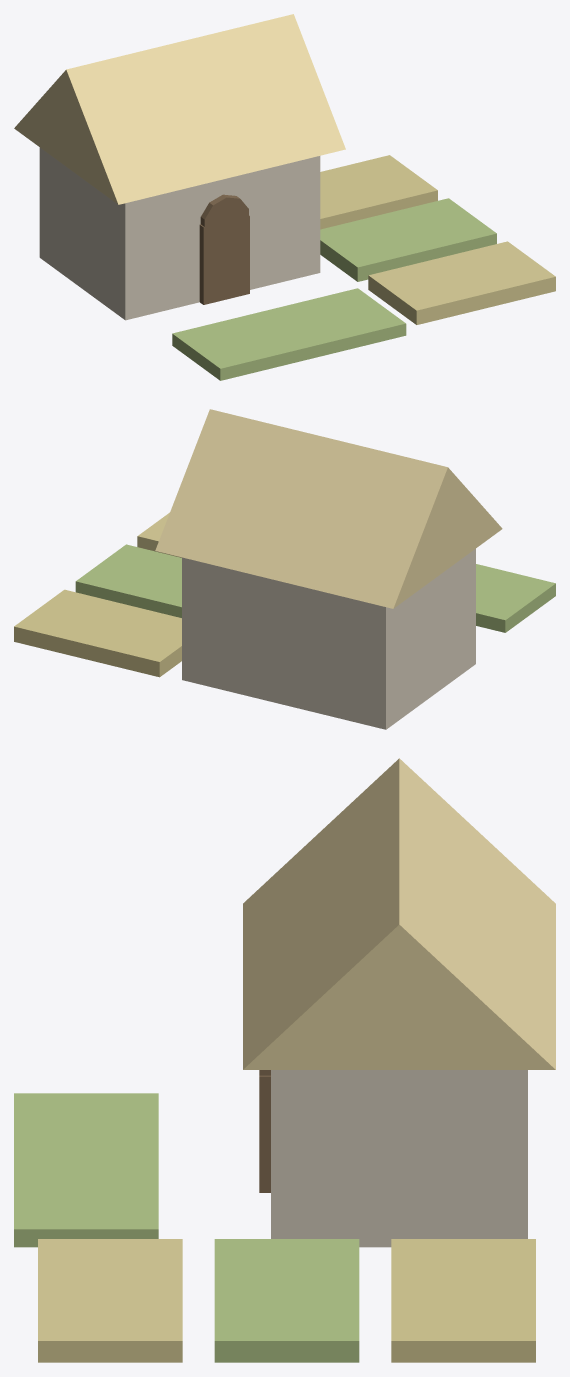
3 renders of one model, top to bottom at view 1: azimuth 30°, elevation 25°; view 2: azimuth 150°, elevation 25°; view 3: azimuth 270°, elevation 25°, orthographic. The views are drawn at different scales.
Parts seen in each view (by area): view 1: body; view 2: body; view 3: body.
Part boxes in pixels (<box>): body: <box>14,14,555,380</box>; body: <box>14,409,555,729</box>; body: <box>14,758,555,1362</box>.
Bounding box in the file's own units: 7.95 × 4.6 × 6.75.
